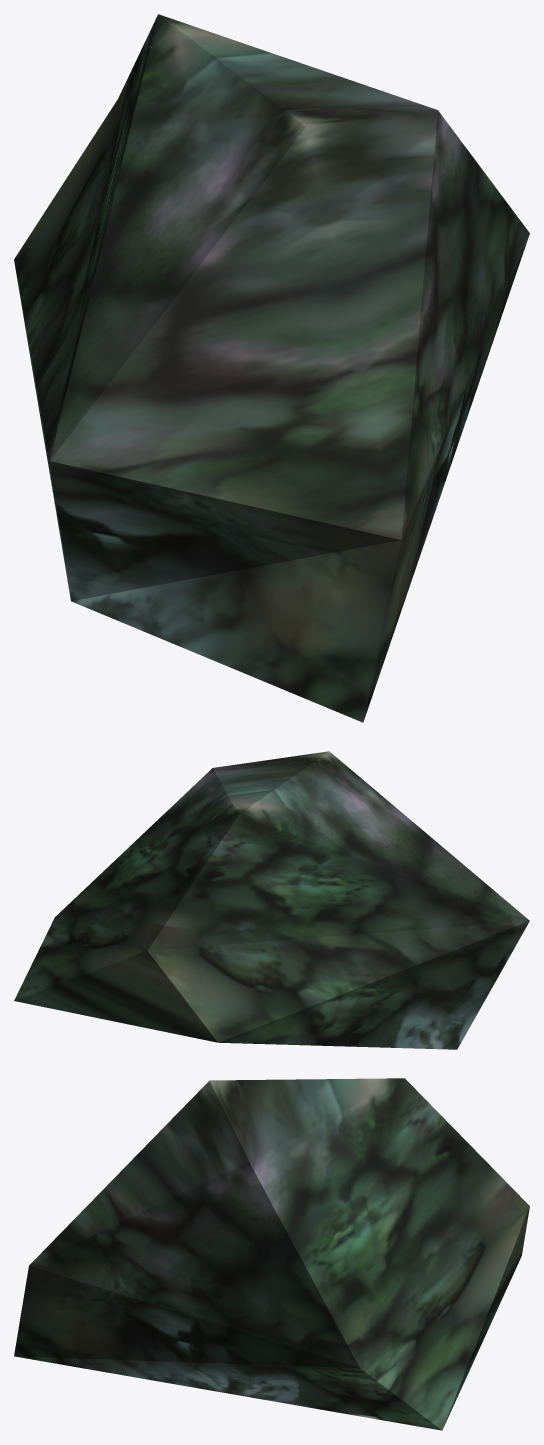
File: TheOctagon_Floor_0_Rock_5.gltf
The picture shows the model from 3 angles, top to bottom: view 1: azimuth 30°, elevation 25°; view 2: azimuth 150°, elevation 25°; view 3: azimuth 270°, elevation 25°; orthographic projection. The views are drawn at different scales.
Parts seen in each view (by area): view 1: TheOctagon_Floor_0_Rock_5; view 2: TheOctagon_Floor_0_Rock_5; view 3: TheOctagon_Floor_0_Rock_5.
Part boxes in pixels (x1,y1,x2,y2): TheOctagon_Floor_0_Rock_5: (14, 14, 529, 722); TheOctagon_Floor_0_Rock_5: (14, 751, 529, 1049); TheOctagon_Floor_0_Rock_5: (14, 1078, 529, 1430).
Bounding box in the file's own units: 9.21 × 6.48 × 9.84.
Materials: 1 (1 with a texture image).
